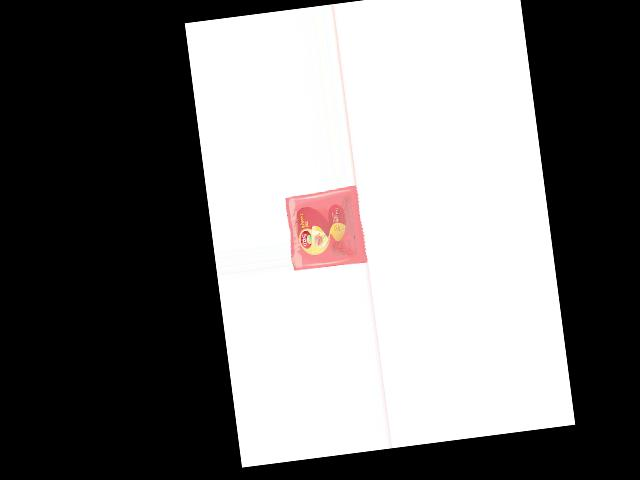cheese: (284, 187, 368, 272)
